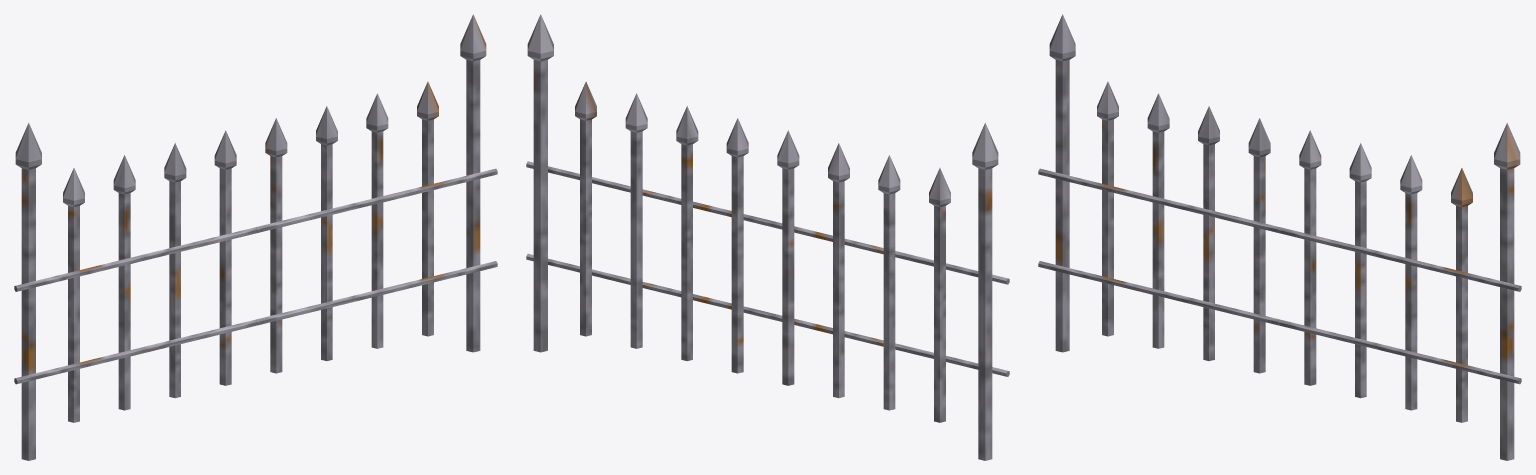
Rendered from BarricadeWarrior.fbx.
The picture shows the model from 3 angles, left to right: view 1: azimuth 30°, elevation 25°; view 2: azimuth 150°, elevation 25°; view 3: azimuth 330°, elevation 25°; orthographic projection.
Visible parts, largest first — view 1: BarricadeWarriorLeft, BarricadeWarriorRight; view 2: BarricadeWarriorLeft, BarricadeWarriorRight; view 3: BarricadeWarriorRight, BarricadeWarriorLeft.
Part boxes in pixels (x1,y1,x2,y2): BarricadeWarriorLeft: (14, 123, 257, 460); BarricadeWarriorRight: (256, 14, 497, 373); BarricadeWarriorLeft: (766, 123, 1009, 460); BarricadeWarriorRight: (526, 14, 767, 373); BarricadeWarriorRight: (1278, 123, 1521, 460); BarricadeWarriorLeft: (1038, 14, 1279, 373).
Bounding box in the file's own units: 1.9 × 1.27 × 0.0901.
